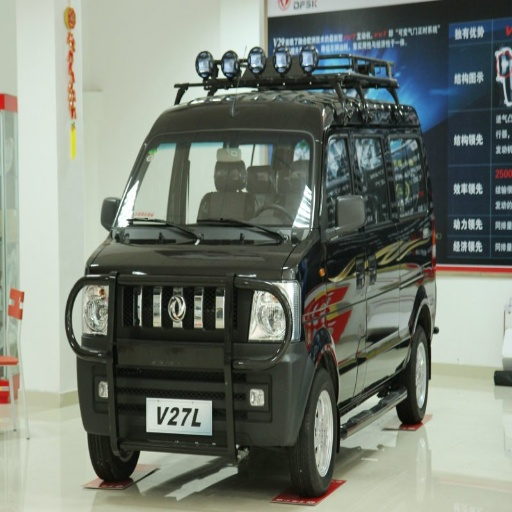back_left_door: (369, 269, 411, 350)
back_left_light: (66, 281, 112, 357)
front_glass: (127, 112, 313, 229)
front_left_door: (331, 259, 387, 392), (319, 200, 348, 270)
trunk: (119, 273, 306, 426)
